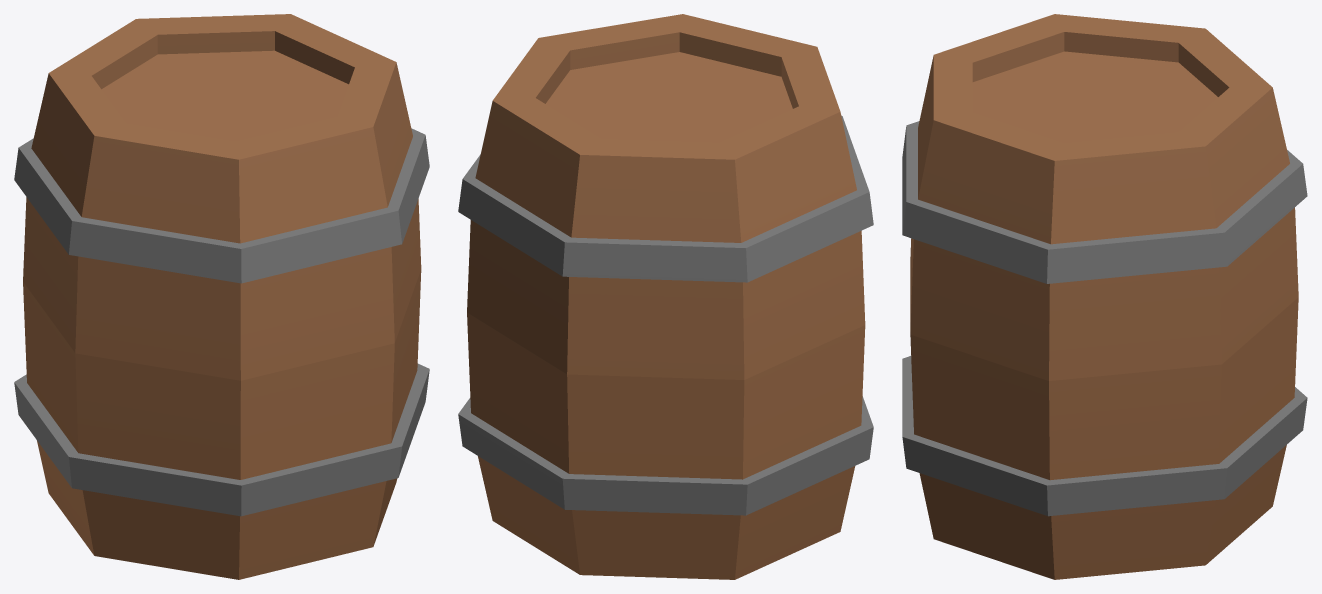
File: barrel.fbx
3 renders of one model, left to right at view 1: azimuth 30°, elevation 25°; view 2: azimuth 150°, elevation 25°; view 3: azimuth 270°, elevation 25°, orthographic.
Visible parts, largest first — view 1: barrel; view 2: barrel; view 3: barrel.
Part boxes in pixels (box(x1,y1,x2,y2)): barrel: box(14, 14, 429, 579); barrel: box(458, 14, 873, 579); barrel: box(902, 14, 1307, 579).
Size of the model in its own units: 79.57 by 88.52 by 77.58.
